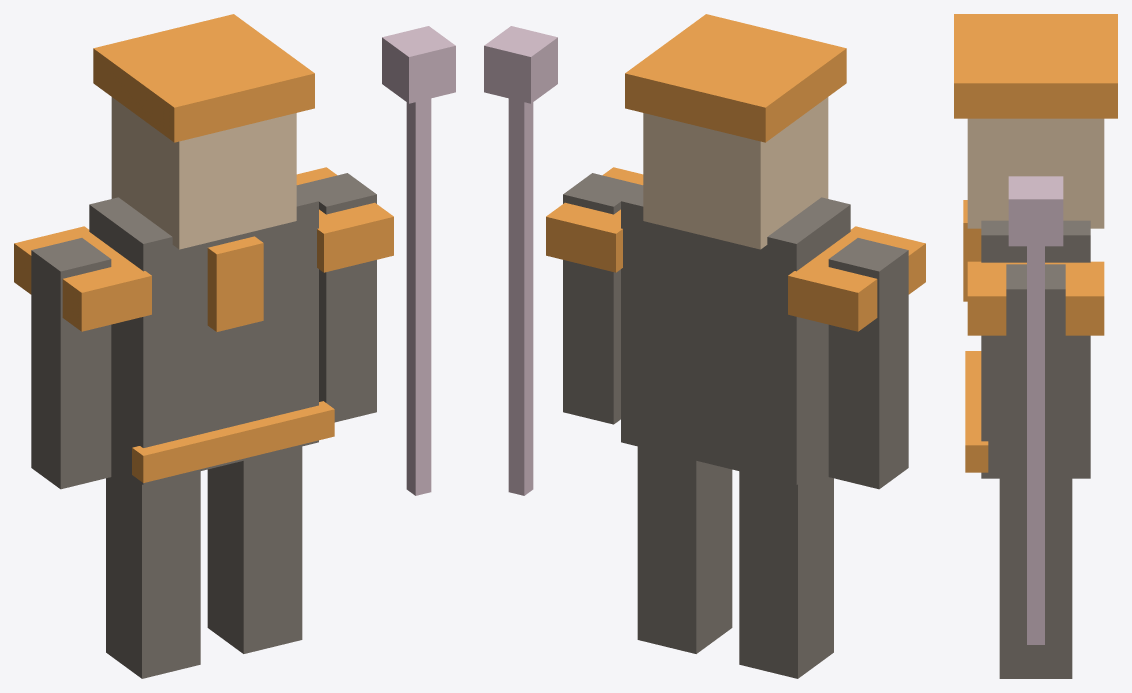
The model's file is 10_maven_starfall_marshal_of_echo.glb.
3 renders of one model, left to right at view 1: azimuth 30°, elevation 25°; view 2: azimuth 150°, elevation 25°; view 3: azimuth 270°, elevation 25°, orthographic.
Visible parts, largest first — view 1: Maven Starfall, Marshal of Echo; view 2: Maven Starfall, Marshal of Echo; view 3: Maven Starfall, Marshal of Echo.
Part boxes in pixels (left/top/right/bottom): Maven Starfall, Marshal of Echo: left=14, top=14, right=455, bottom=678; Maven Starfall, Marshal of Echo: left=484, top=14, right=925, bottom=678; Maven Starfall, Marshal of Echo: left=954, top=14, right=1117, bottom=678.
Size of the model in its own units: 1.08 by 1.53 by 0.3843.
